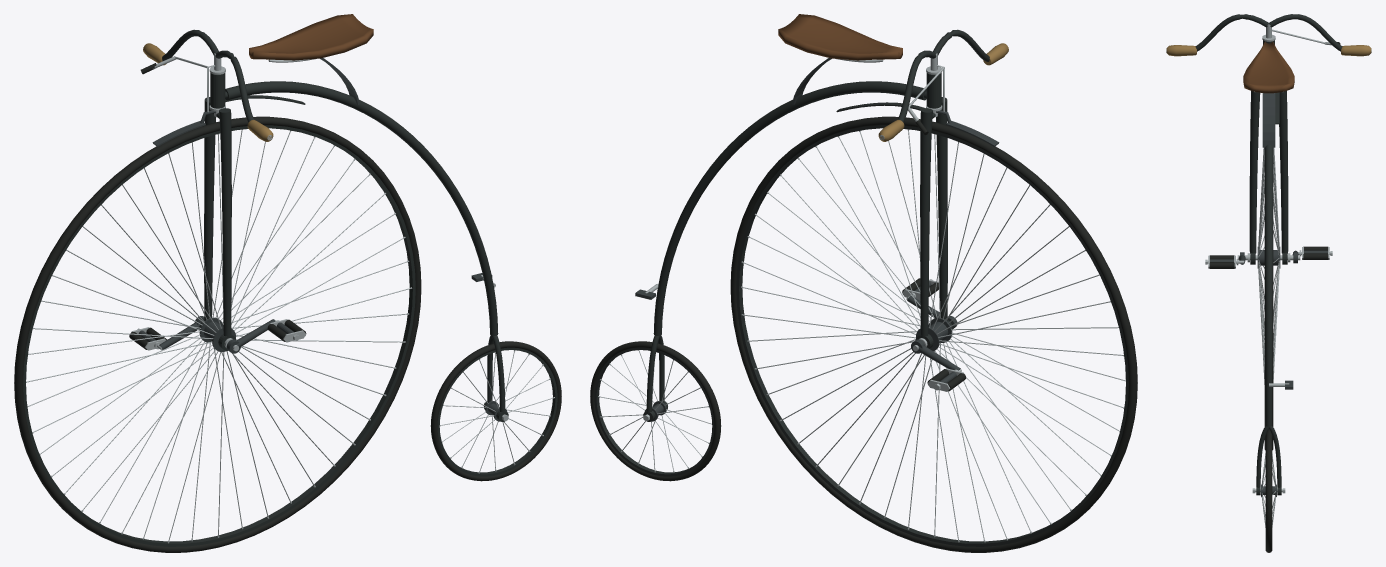
File: NEW453_penny_farthing_LOD1.glb
3 renders of one model, left to right at view 1: azimuth 30°, elevation 25°; view 2: azimuth 150°, elevation 25°; view 3: azimuth 270°, elevation 25°, orthographic. The views are drawn at different scales.
Parts seen in each view (by area): view 1: Front_solid_rubber_tyre, Front_rim_closed_channel, Single_curved_backbone, Leather_saddle_closed_underside, Rear_solid_rubber_tyre, Front_fork_blade_-1, Front_fork_blade_1, Rear_rim_closed_channel; view 2: Front_solid_rubber_tyre, Front_rim_closed_channel, Single_curved_backbone, Leather_saddle_closed_underside, Rear_solid_rubber_tyre, Front_fork_blade_1, Front_fork_blade_-1, Rear_rim_closed_channel; view 3: Single_curved_backbone, Leather_saddle_closed_underside, Front_fork_blade_-1, Front_fork_blade_1, Rear_solid_rubber_tyre, Front_solid_rubber_tyre, Saddle_support_curved_leaf_spring, Swept_handlebar_1, Swept_handlebar_-1, Turned_wood_grip_-1, Turned_wood_grip_1, Rear_fork_blade_-1 (+1 smaller).
Part boxes in pixels (<box>): Front_solid_rubber_tyre: <box>14,116,421,552</box>; Front_rim_closed_channel: <box>23,125,415,546</box>; Single_curved_backbone: <box>225,81,498,335</box>; Leather_saddle_closed_underside: <box>249,14,373,60</box>; Rear_solid_rubber_tyre: <box>430,341,561,481</box>; Front_fork_blade_-1: <box>219,108,231,337</box>; Front_fork_blade_1: <box>204,97,215,320</box>; Rear_rim_closed_channel: <box>437,347,557,476</box>; Front_solid_rubber_tyre: <box>730,116,1137,552</box>; Front_rim_closed_channel: <box>736,125,1128,546</box>; Single_curved_backbone: <box>653,81,926,335</box>; Leather_saddle_closed_underside: <box>778,14,902,60</box>; Rear_solid_rubber_tyre: <box>590,341,721,481</box>; Front_fork_blade_1: <box>920,108,932,337</box>; Front_fork_blade_-1: <box>936,97,947,320</box>; Rear_rim_closed_channel: <box>594,347,714,476</box>; Single_curved_backbone: <box>1264,144,1273,426</box>; Leather_saddle_closed_underside: <box>1243,41,1294,93</box>; Front_fork_blade_-1: <box>1249,91,1260,253</box>; Front_fork_blade_1: <box>1279,91,1288,253</box>; Rear_solid_rubber_tyre: <box>1265,429,1272,552</box>; Front_solid_rubber_tyre: <box>1264,178,1273,450</box>; Saddle_support_curved_leaf_spring: <box>1262,93,1275,147</box>; Swept_handlebar_1: <box>1269,14,1342,51</box>; Swept_handlebar_-1: <box>1195,14,1268,51</box>; Turned_wood_grip_-1: <box>1166,45,1196,56</box>; Turned_wood_grip_1: <box>1341,45,1371,56</box>; Rear_fork_blade_-1: <box>1256,426,1268,487</box>.
Bounding box in the file's own units: 1.71 × 1.51 × 0.67.
